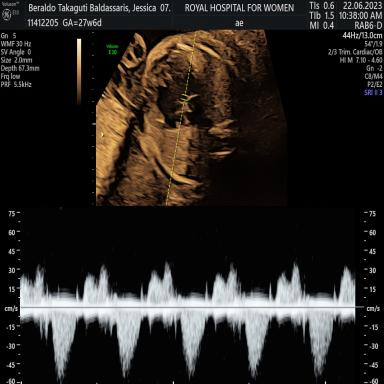Ultrasound-Waves: (25, 215, 355, 384)
